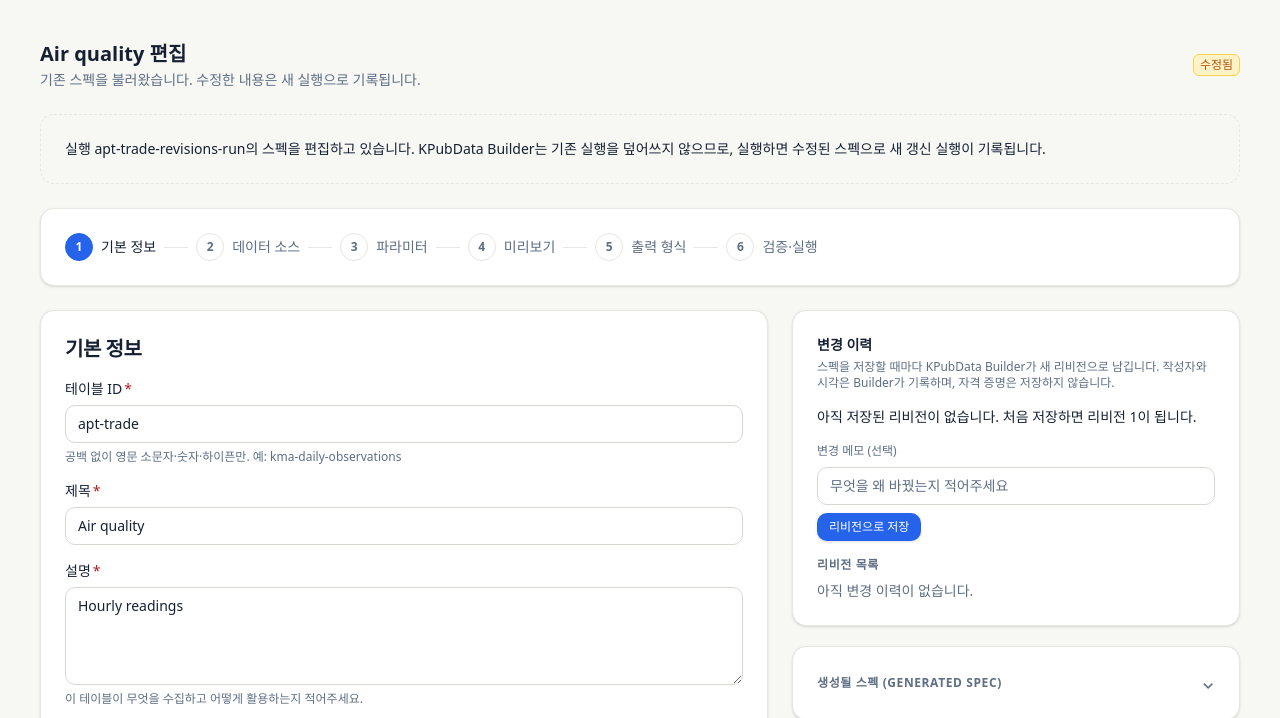
Test: spec edit screen › saves the form's spec as a revision and fills the form from a revert
The width and height of the screenshot is (1280, 718).
Expected: the heading "기본 정보" is shown, x1=65 y1=335 x2=141 y2=362
Expected: the text "아직 저장된 리비전이 없습니다. 처음 저장하면 리비전 1이 됩니다." is shown, x1=817 y1=407 x2=1215 y2=427
Click the button "리비전으로 저장" at point(869, 527), box x1=817 y1=513 x2=921 y2=541
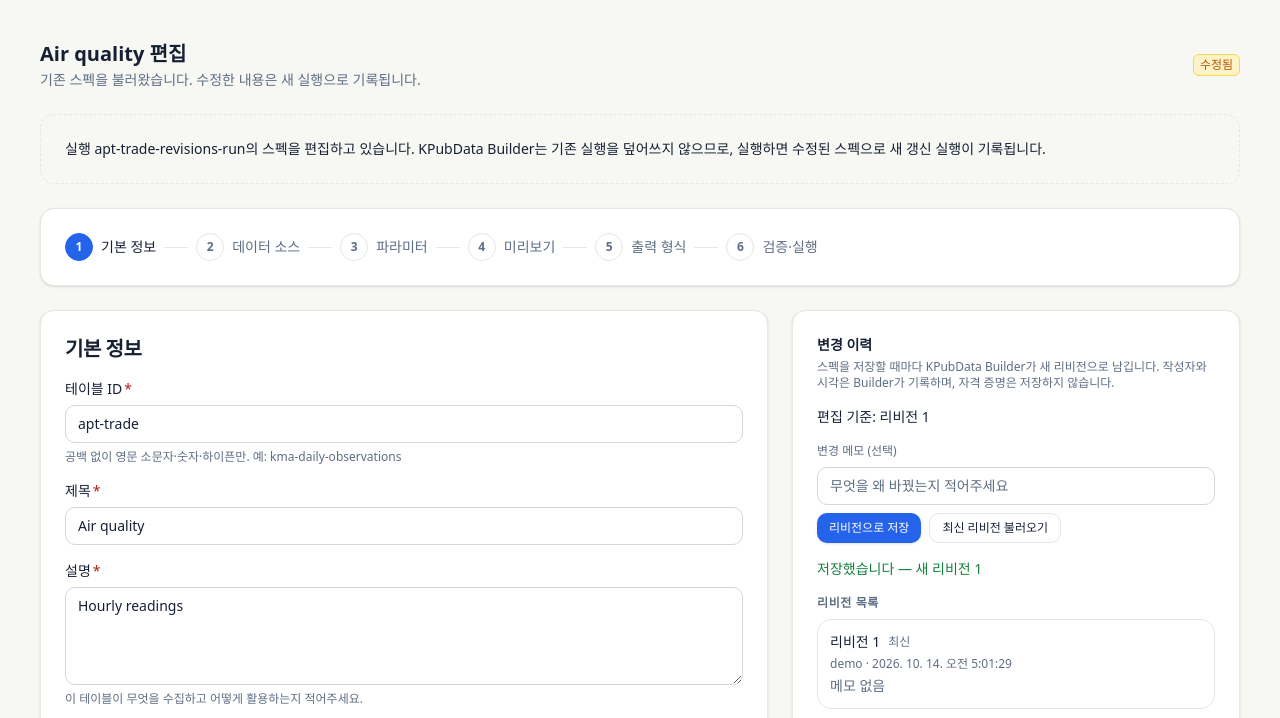
Result: the text "저장했습니다 — 새 리비전 1" is shown at x1=817 y1=559 x2=982 y2=578
Replace the text in the field labelled "제목*" with "Renamed" at point(404, 526), box x1=65 y1=507 x2=743 y2=545
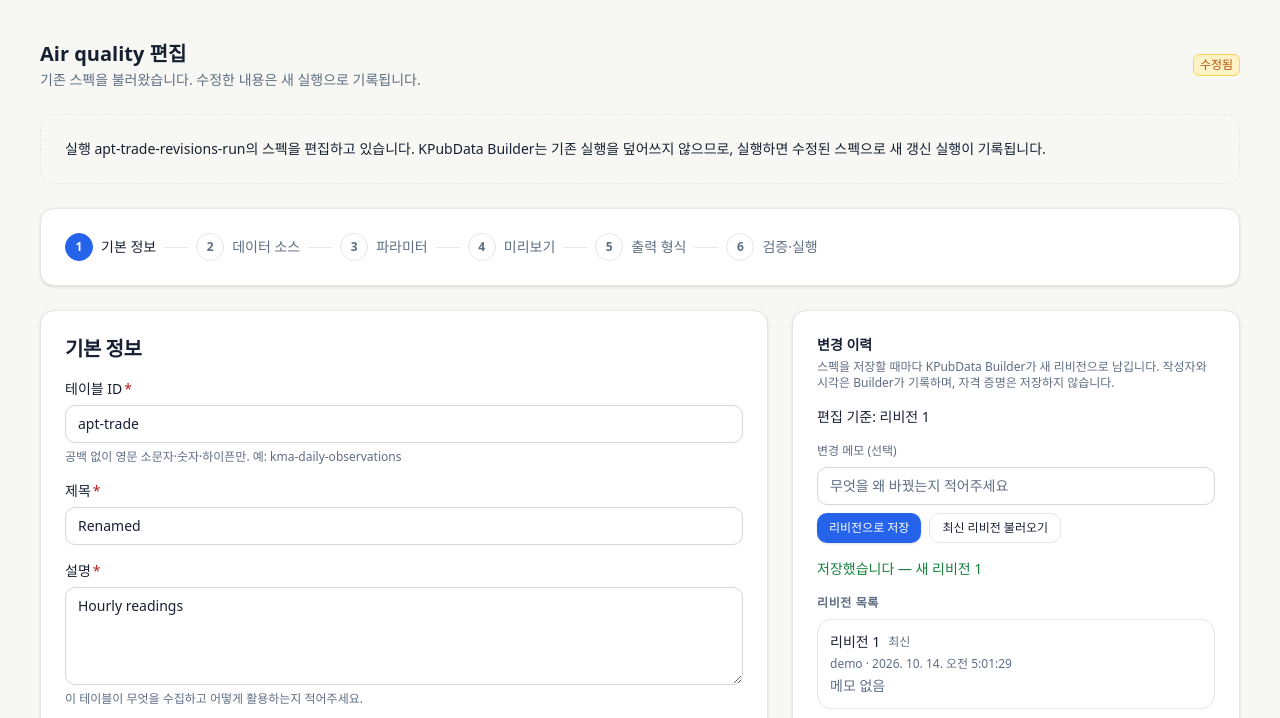
Click the button "리비전으로 저장" at point(869, 528), box x1=817 y1=513 x2=921 y2=543
(page scrolled)
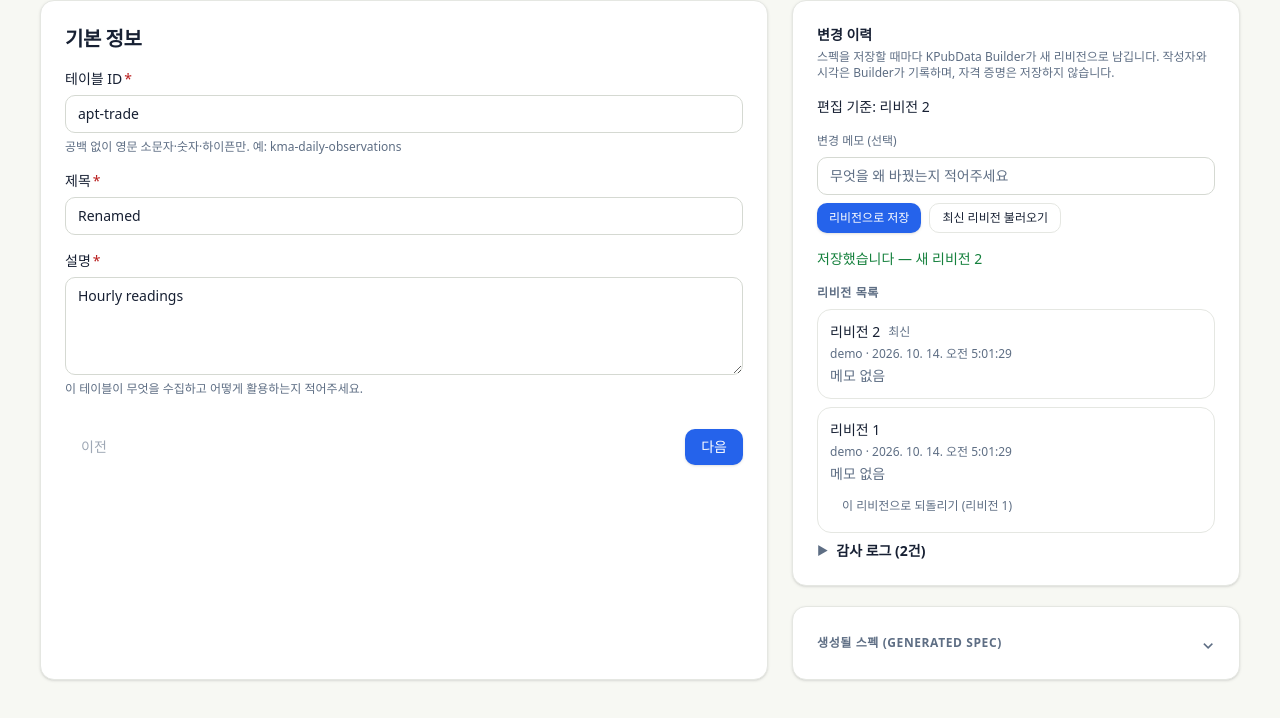
Result: the text "저장했습니다 — 새 리비전 2" is shown at x1=817 y1=249 x2=982 y2=268
Click the button "이 리비전으로 되돌리기 (리비전 1)" at point(927, 506), box x1=830 y1=492 x2=1024 y2=520
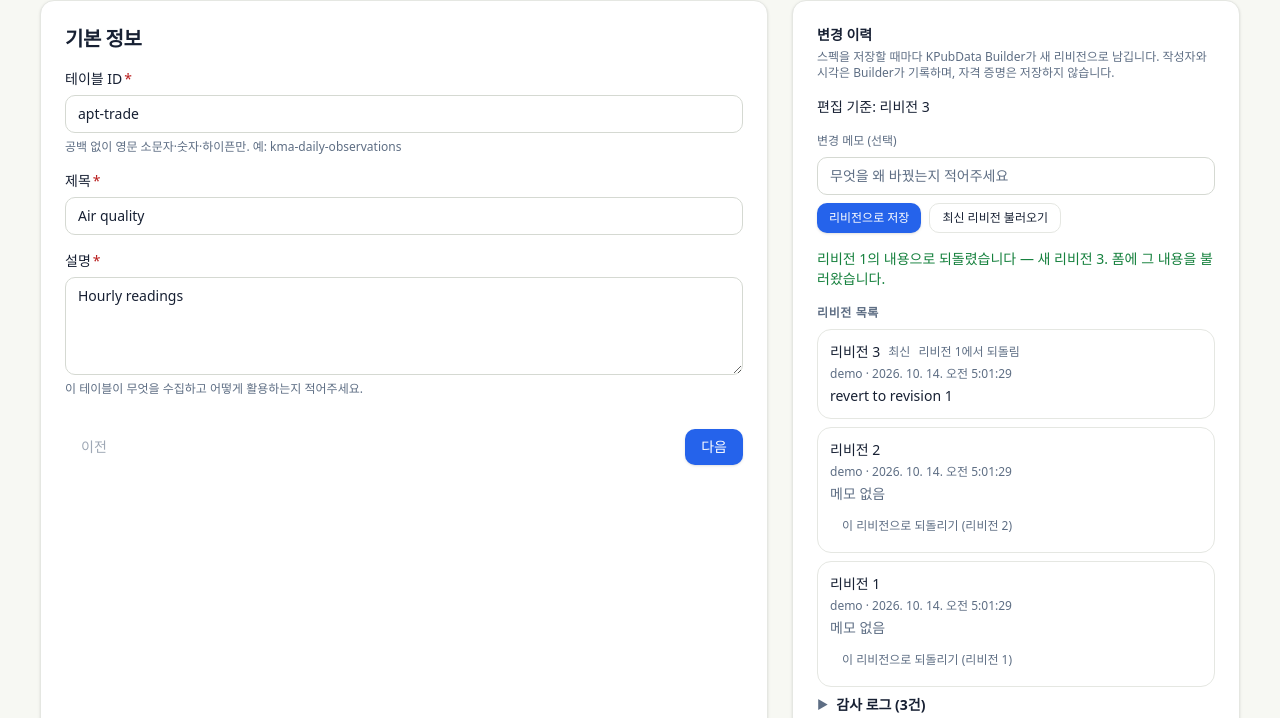
Result: the text "리비전 1의 내용으로 되돌렸습니다 — 새 리비전 3. 폼에 그 내용을 불러왔습니다." is shown at x1=817 y1=249 x2=1215 y2=289
Result: the field labelled "제목*" holds "Air quality" at x1=65 y1=197 x2=743 y2=235
